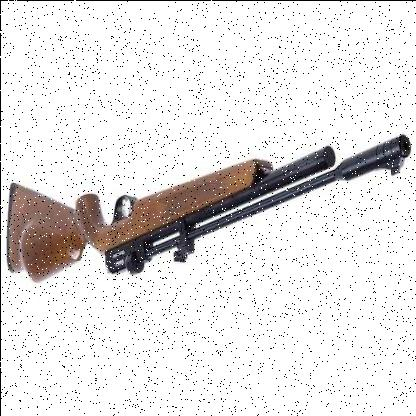rifle: (1, 129, 413, 292)
